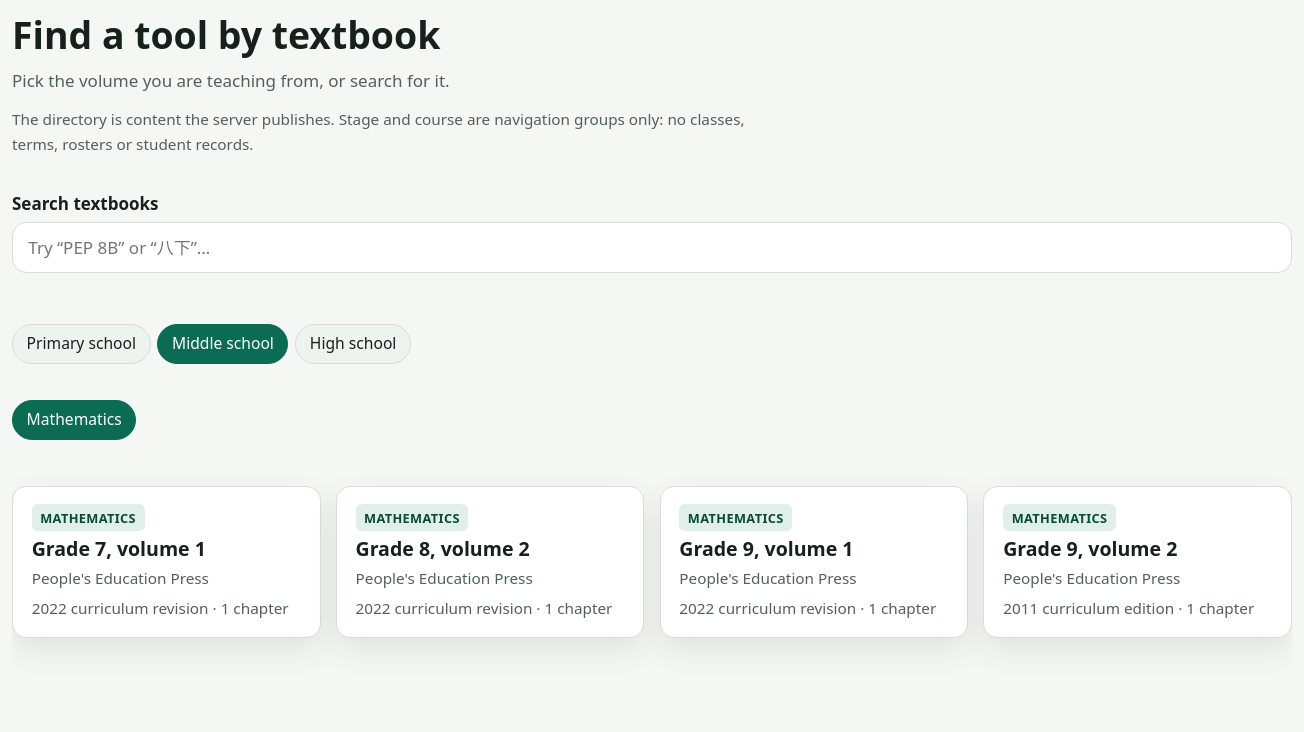
curriculum directory (teacher navigation A) › finds a volume with the shorthand a teacher types, e.g. 八下
Expected: the list with test id "curriculum-books" is shown, [12,486,1292,638]
Type "八下" into the search field labelled "Search textbooks".
click(652, 247); type("八下")  # box [12,222,1292,273]
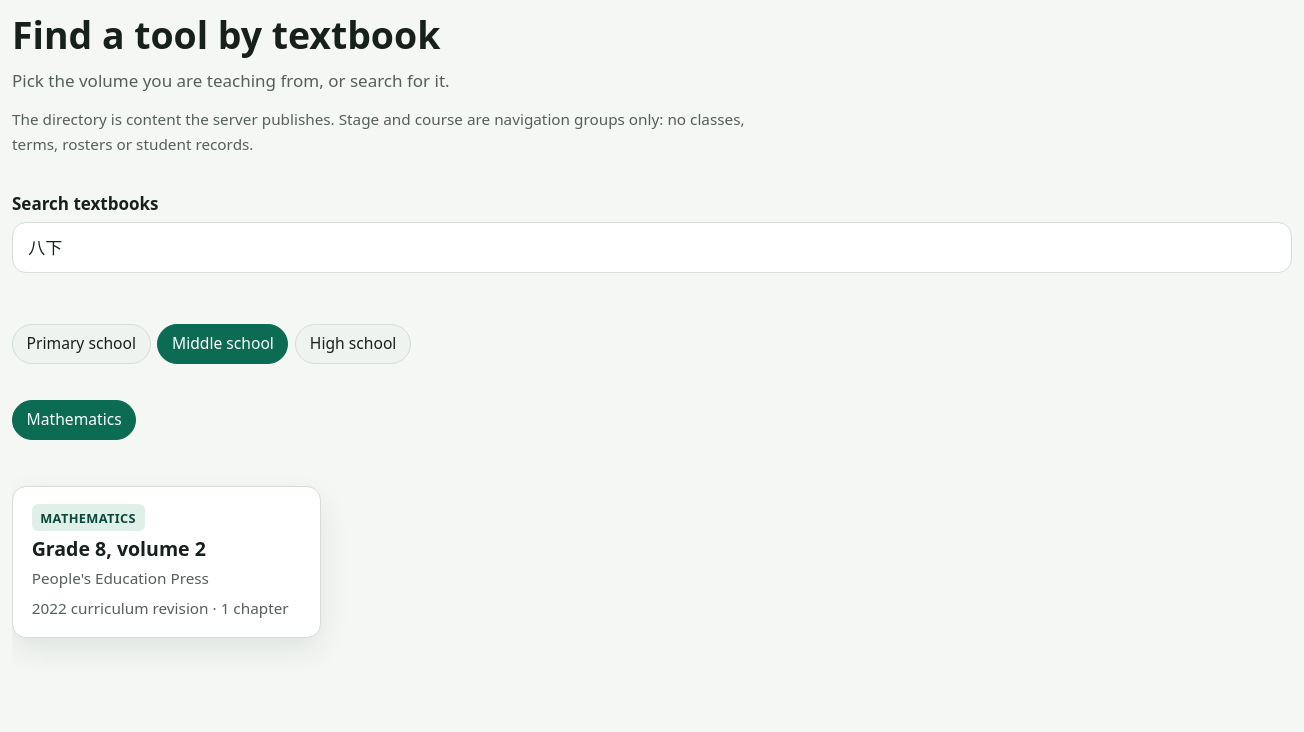
Replace the text in the search field labelled "Search textbooks" with "九上" at (652, 247), box [12,222,1292,273]
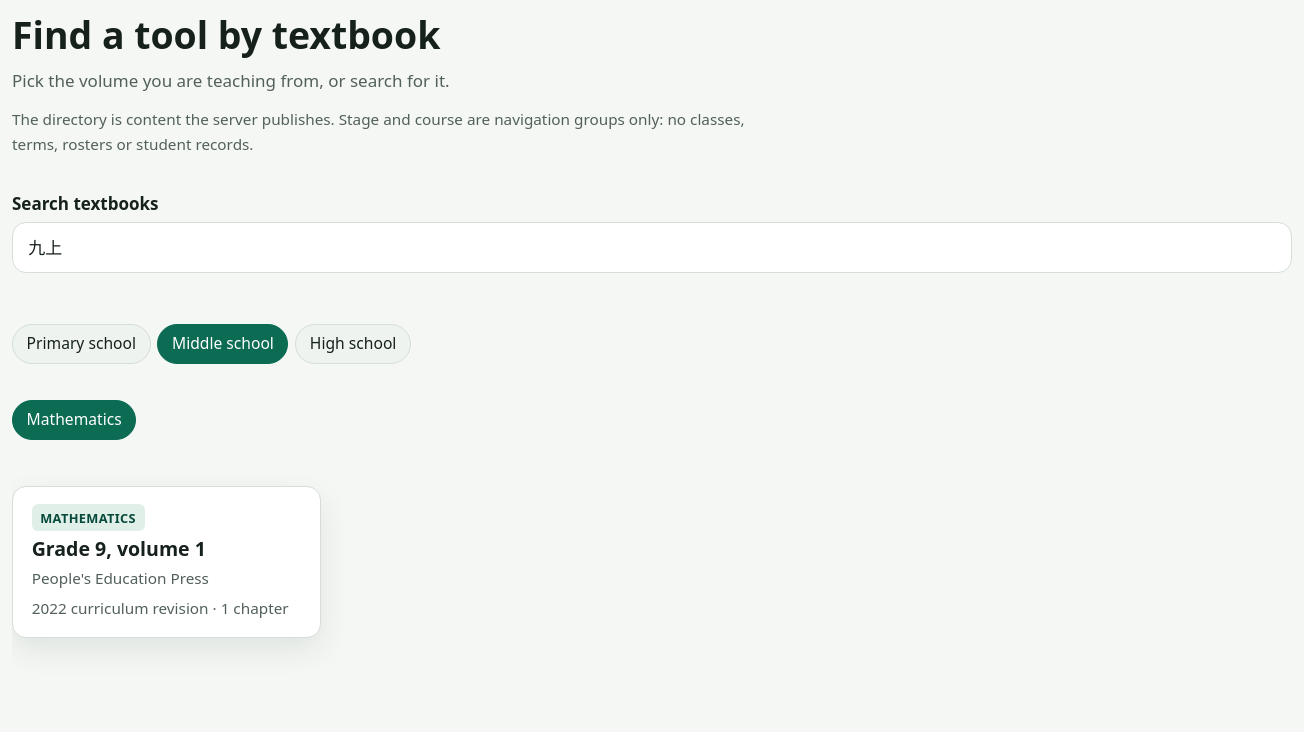
Replace the text in the search field labelled "Search textbooks" with "2022 curriculum revision" at (652, 247), box [12,222,1292,273]
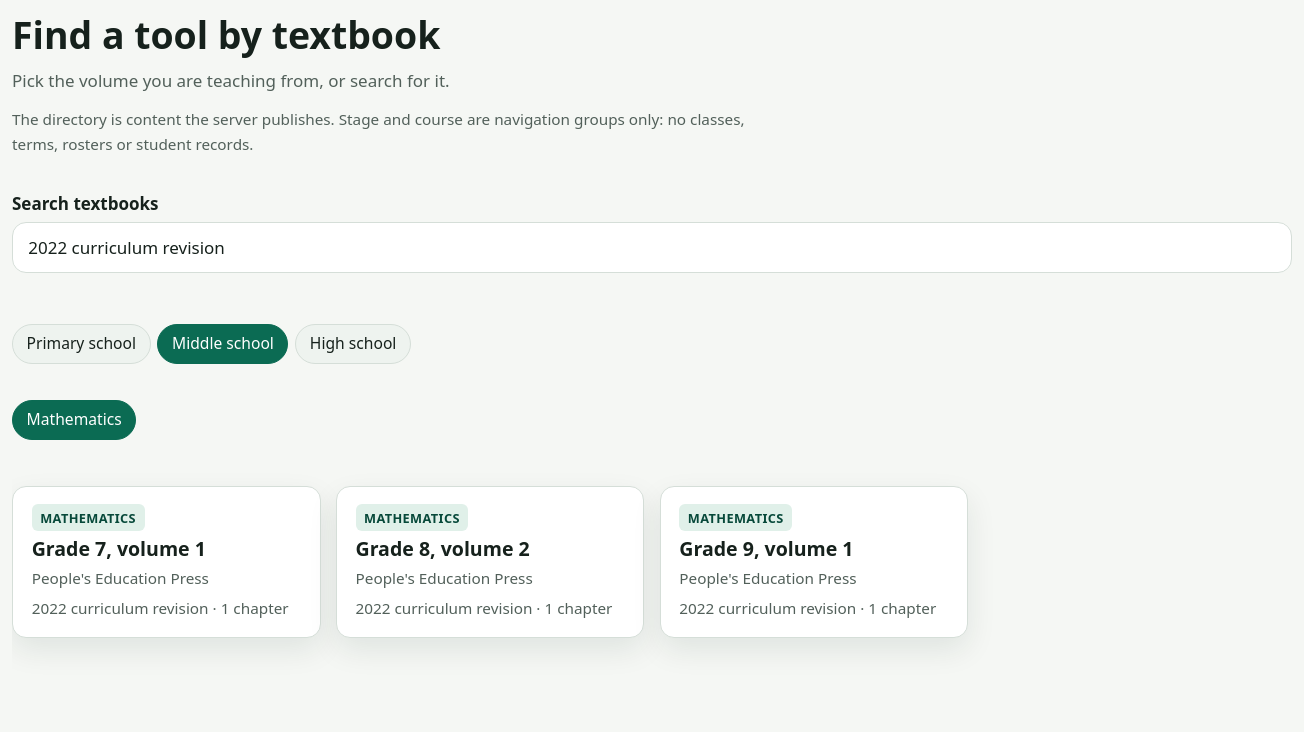
Replace the text in the search field labelled "Search textbooks" with "no such textbook" at (652, 247), box [12,222,1292,273]
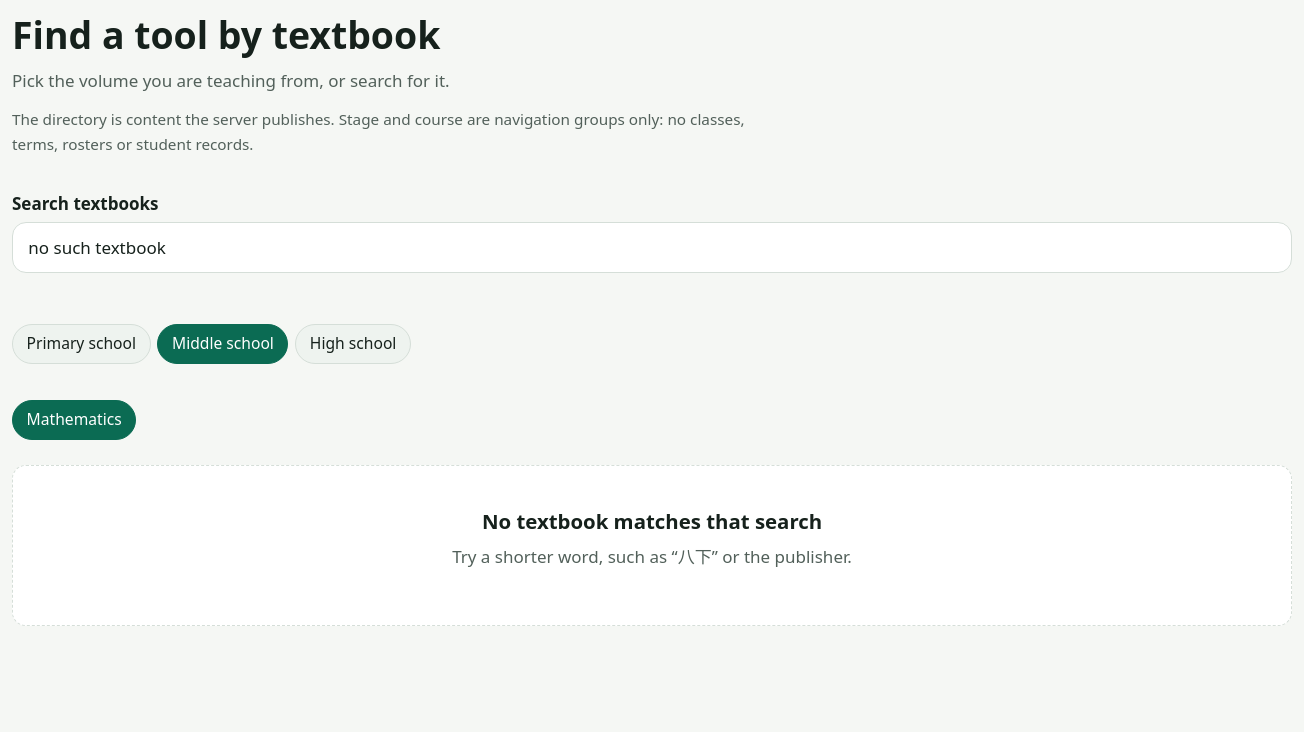
Expected: the element with test id "curriculum-books-empty" is shown, [12,465,1292,626]
